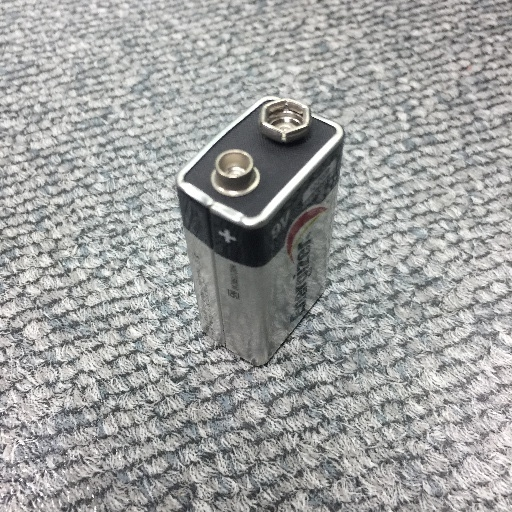Battery_3: (164, 84, 355, 387)
